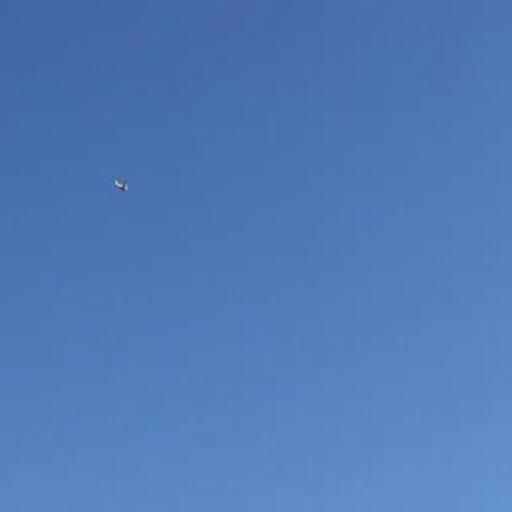aircraft: (116, 180, 129, 192)
